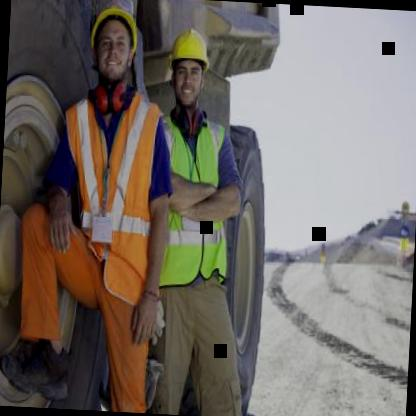helmet: (81, 0, 148, 96), (165, 23, 215, 111)
